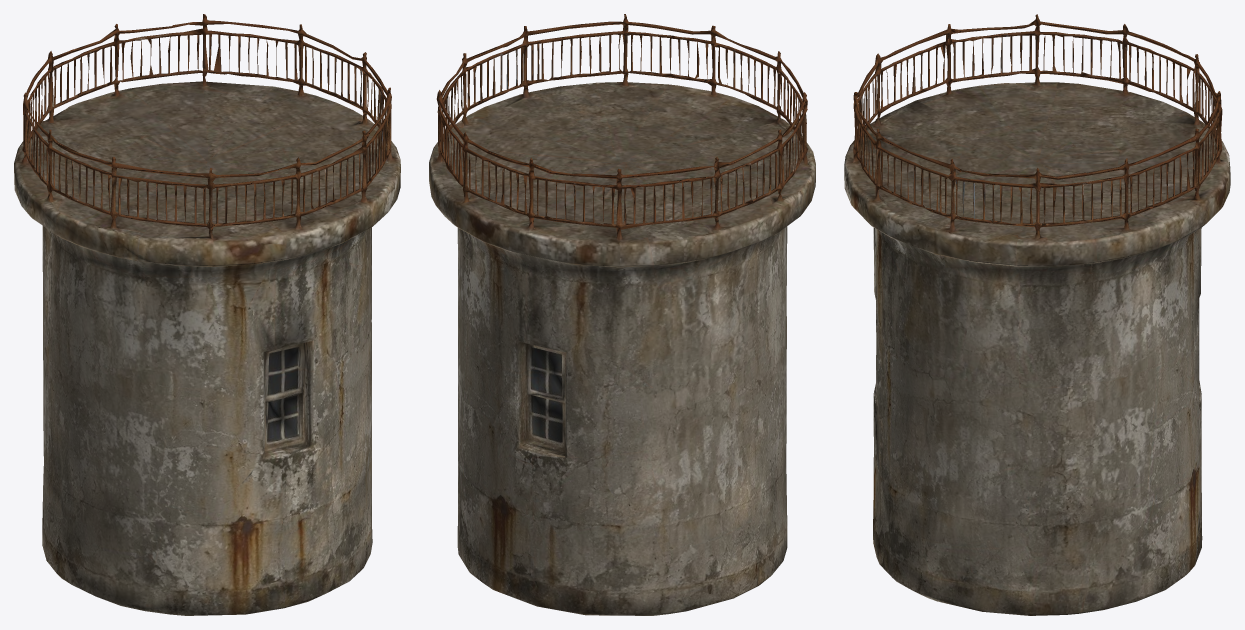
File: gt_round.glb
The picture shows the model from 3 angles, left to right: view 1: azimuth 30°, elevation 25°; view 2: azimuth 150°, elevation 25°; view 3: azimuth 270°, elevation 25°; orthographic projection.
Parts seen in each view (by area): view 1: gt_round; view 2: gt_round; view 3: gt_round.
Boxes of the visible parts, box(x1,y1,x2,y2) form: gt_round: box(14, 14, 400, 615); gt_round: box(429, 14, 815, 615); gt_round: box(844, 14, 1230, 615).
Bounding box in the file's own units: 1.45 × 1.9 × 1.46.
Materials: 1 (1 with a texture image).
